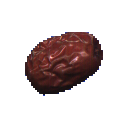gd: (15, 25, 112, 109)
